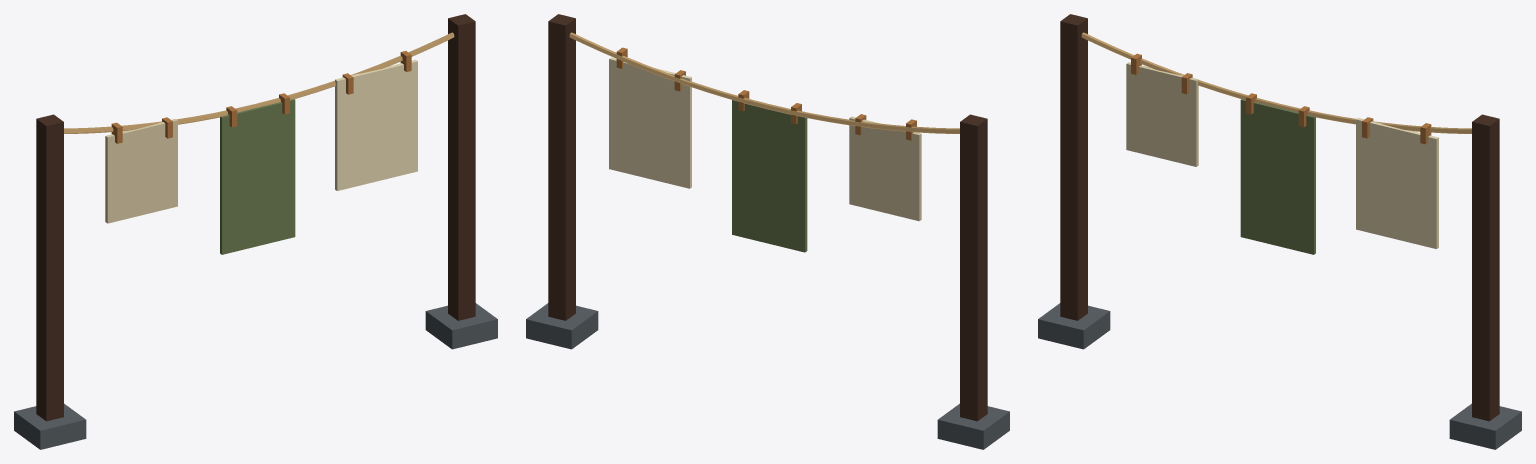
File: 37_clothesline.fbx
3 views of the same model, side by side, from view 1: azimuth 30°, elevation 25°; view 2: azimuth 150°, elevation 25°; view 3: azimuth 330°, elevation 25° (orthographic).
Visible parts, largest first — view 1: 37_clothesline; view 2: 37_clothesline; view 3: 37_clothesline.
Boxes of the visible parts, x1=… form: 37_clothesline: x1=14, y1=14, x2=497, y2=449; 37_clothesline: x1=526, y1=14, x2=1009, y2=449; 37_clothesline: x1=1038, y1=14, x2=1521, y2=449.
Bounding box in the file's own units: 3 × 1.97 × 0.3.
1 material, 1 textured.
